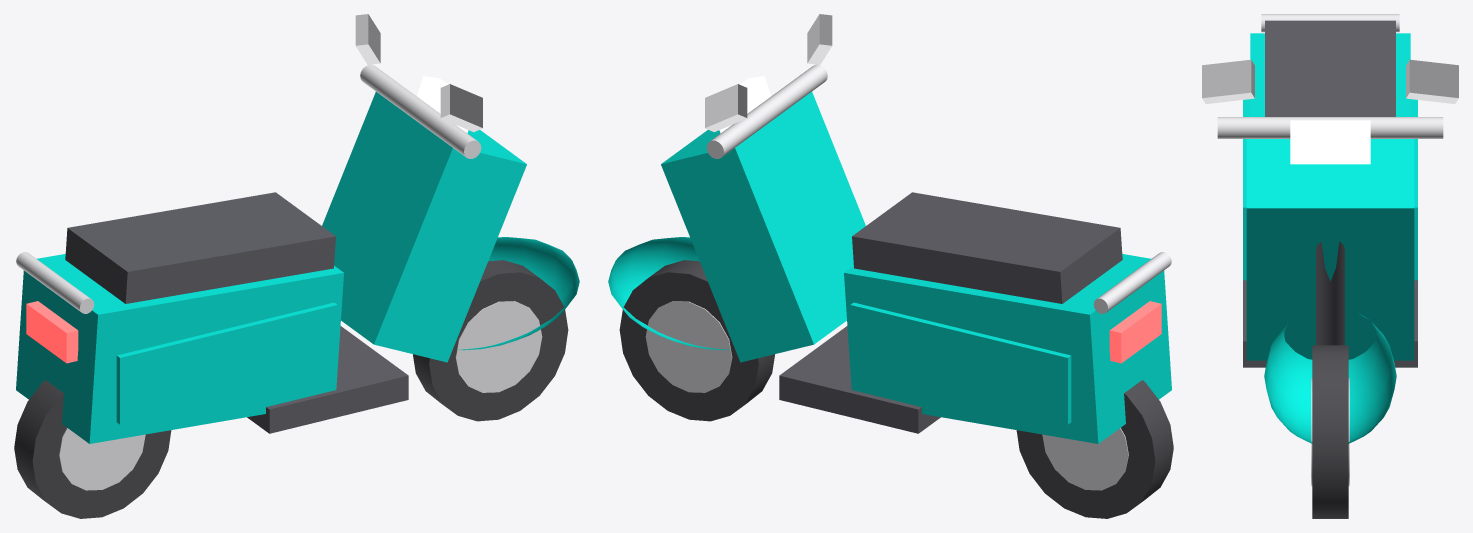
Rendered from scooter.glb.
3 views of the same model, side by side, from view 1: azimuth 30°, elevation 25°; view 2: azimuth 150°, elevation 25°; view 3: azimuth 270°, elevation 25° (orthographic). The views are drawn at different scales.
Visible parts, largest first — view 1: Body, Seat, Wheel_Front, Wheel_Rear, Chrome, Chassis, Rim_Front, Rim_Rear, Taillight, Headlight; view 2: Body, Seat, Wheel_Front, Wheel_Rear, Chrome, Chassis, Rim_Front, Rim_Rear, Taillight, Headlight; view 3: Body, Seat, Chrome, Wheel_Front, Headlight, Chassis, Rim_Front.
Part boxes in pixels (<box>): Body: <box>16,92,579,443</box>; Seat: <box>65,192,335,303</box>; Wheel_Front: <box>413,260,568,421</box>; Wheel_Rear: <box>14,380,171,518</box>; Chrome: <box>16,14,482,313</box>; Chassis: <box>247,326,408,433</box>; Rim_Front: <box>455,301,542,392</box>; Rim_Rear: <box>59,428,145,490</box>; Taillight: <box>26,301,78,363</box>; Headlight: <box>417,76,468,133</box>; Body: <box>608,92,1171,443</box>; Seat: <box>852,192,1122,303</box>; Wheel_Front: <box>619,260,774,421</box>; Wheel_Rear: <box>1016,380,1173,518</box>; Chrome: <box>705,14,1171,313</box>; Chassis: <box>779,326,940,433</box>; Rim_Front: <box>645,301,732,392</box>; Rim_Rear: <box>1042,428,1128,490</box>; Taillight: <box>1109,301,1161,363</box>; Headlight: <box>719,76,770,133</box>; Body: <box>1243,33,1417,443</box>; Seat: <box>1265,20,1395,116</box>; Chrome: <box>1202,14,1458,138</box>; Wheel_Front: <box>1312,345,1348,518</box>; Headlight: <box>1290,120,1370,164</box>; Chassis: <box>1243,242,1417,367</box>; Rim_Front: <box>1311,378,1349,486</box>.
Size of the model in its own units: 1.9 by 1.23 by 0.7056.
